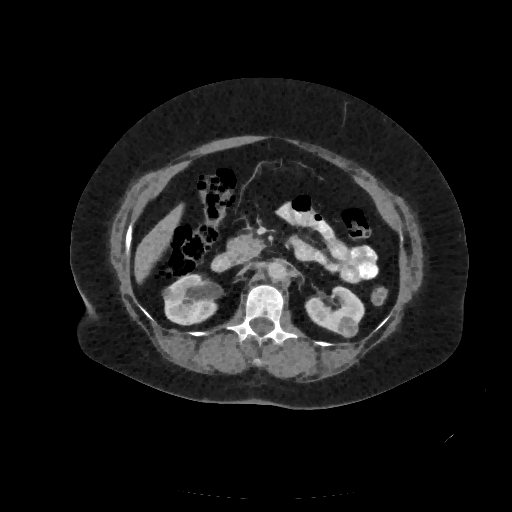Lesion: (336, 315, 360, 338)
